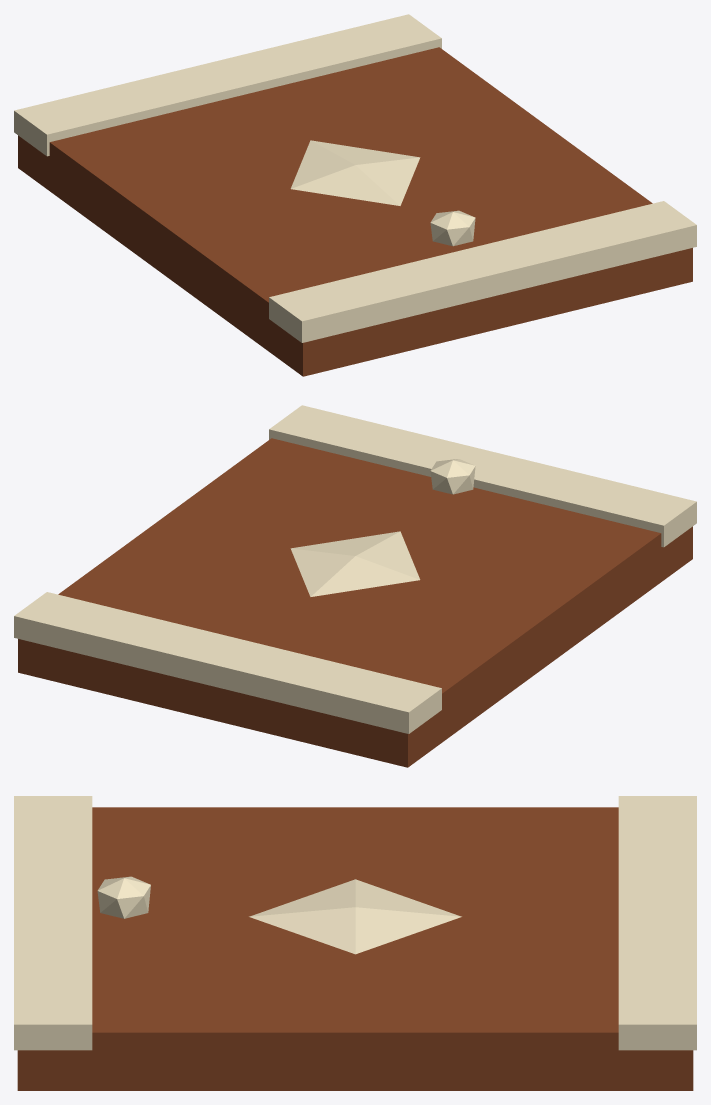
The model's file is drop_cape_cooking.glb.
3 views of the same model, one above another, from view 1: azimuth 30°, elevation 25°; view 2: azimuth 150°, elevation 25°; view 3: azimuth 270°, elevation 25° (orthographic). The views are drawn at different scales.
Visible parts, largest first — view 1: drop_cape_cooking; view 2: drop_cape_cooking; view 3: drop_cape_cooking.
Part boxes in pixels (left/top/right/bottom): drop_cape_cooking: left=14, top=14, right=696, bottom=376; drop_cape_cooking: left=14, top=405, right=696, bottom=767; drop_cape_cooking: left=14, top=796, right=696, bottom=1090.
Size of the model in its own units: 0.304 by 0.062 by 0.384.
